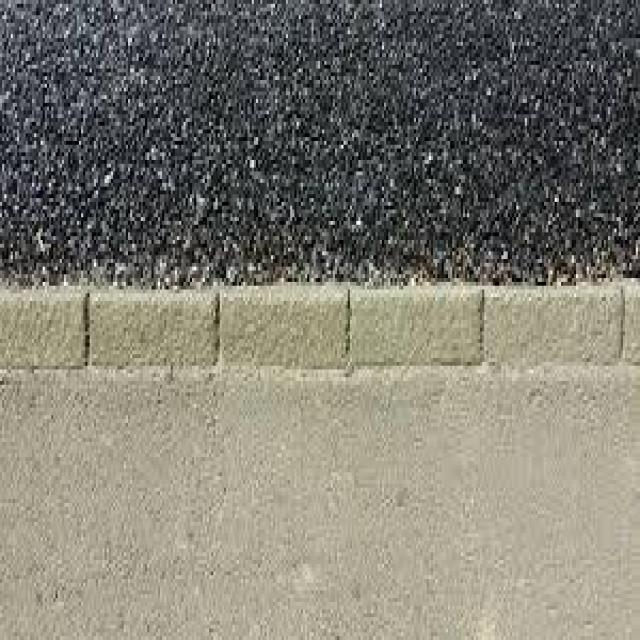curb: (487, 277, 629, 379), (345, 280, 487, 376), (214, 284, 353, 374), (86, 285, 219, 369), (1, 285, 97, 372)
